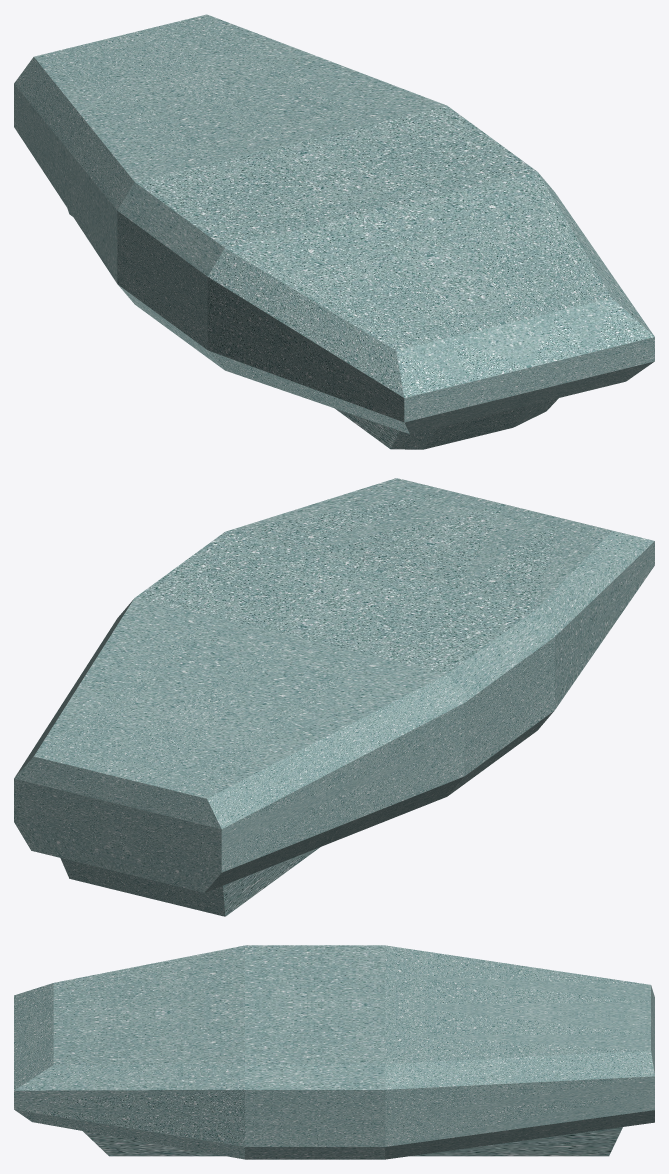
The model's file is drone.obj.
3 views of the same model, one above another, from view 1: azimuth 30°, elevation 25°; view 2: azimuth 150°, elevation 25°; view 3: azimuth 270°, elevation 25° (orthographic). The views are drawn at different scales.
Visible parts, largest first — view 1: Cube; view 2: Cube; view 3: Cube.
Boxes of the visible parts, left/top/right/bottom form: Cube: left=14, top=14, right=654, bottom=449; Cube: left=14, top=478, right=654, bottom=916; Cube: left=14, top=945, right=654, bottom=1159.
Size of the model in its own units: 2.22 by 1.01 by 4.56.
